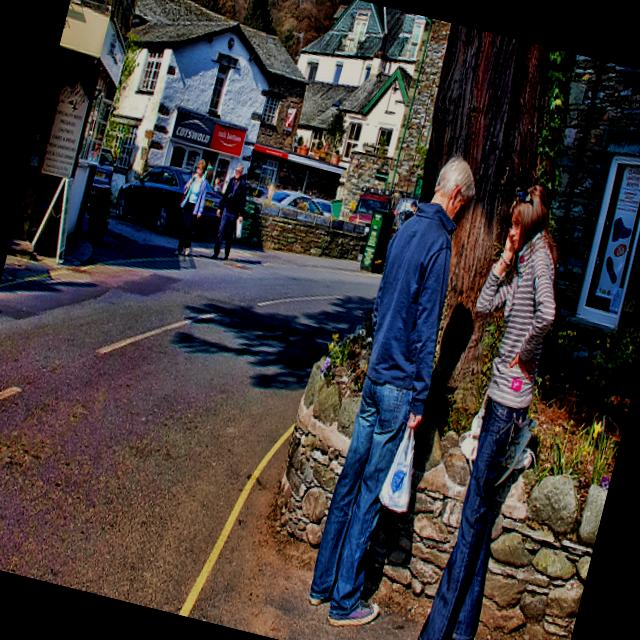Vehicle: (110, 153, 229, 246), (346, 182, 398, 232), (270, 186, 328, 217), (91, 146, 119, 192), (311, 196, 338, 218), (246, 184, 270, 205)
